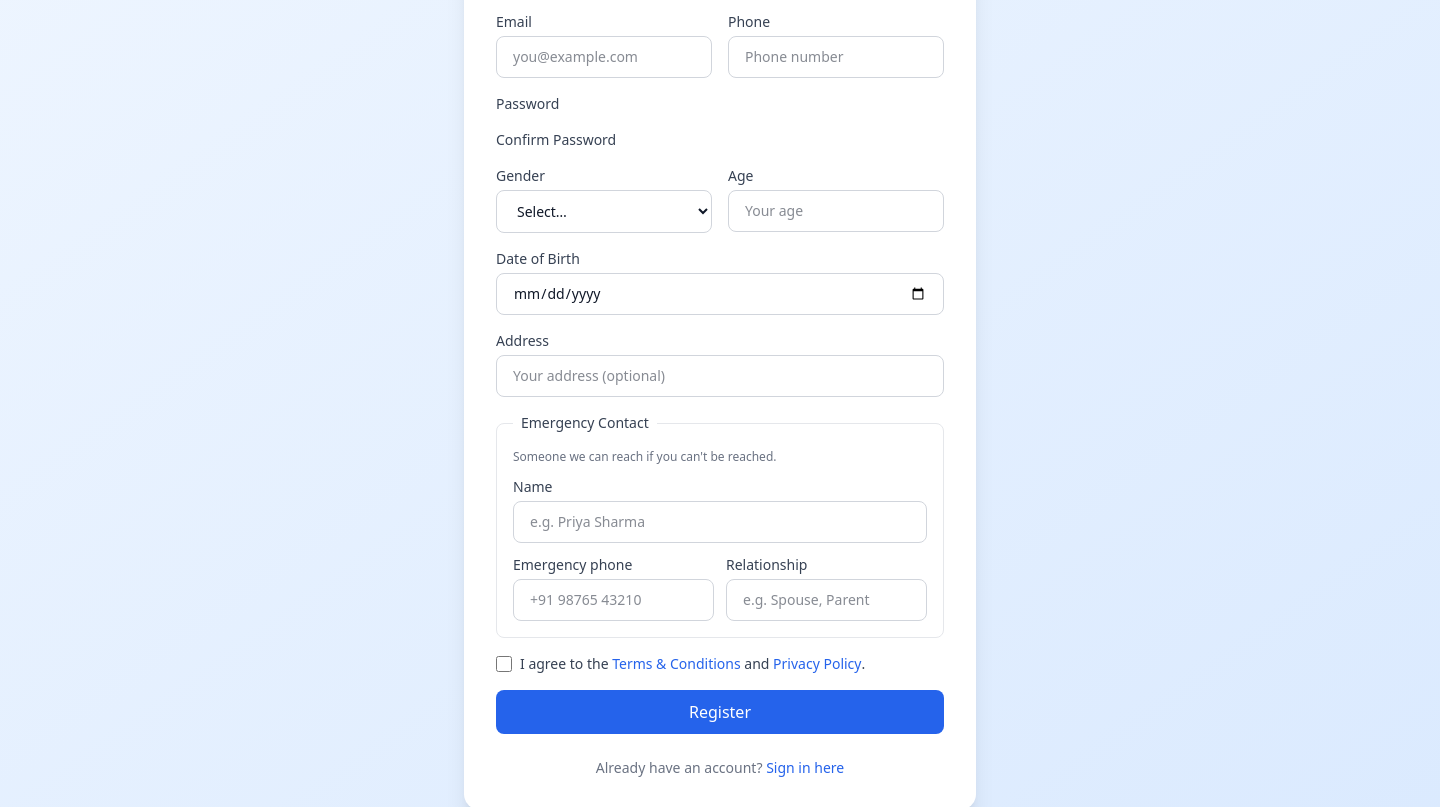
RegisterPage — noValidate + inline field errors (Issue #102 / #130) › clears a field's inline error as soon as the user edits the input
The width and height of the screenshot is (1440, 807).
(page scrolled)
Note: Trigger the empty-form errors first.
Click the button "Register": point(720, 712) [496,690,944,734]
(page scrolled)
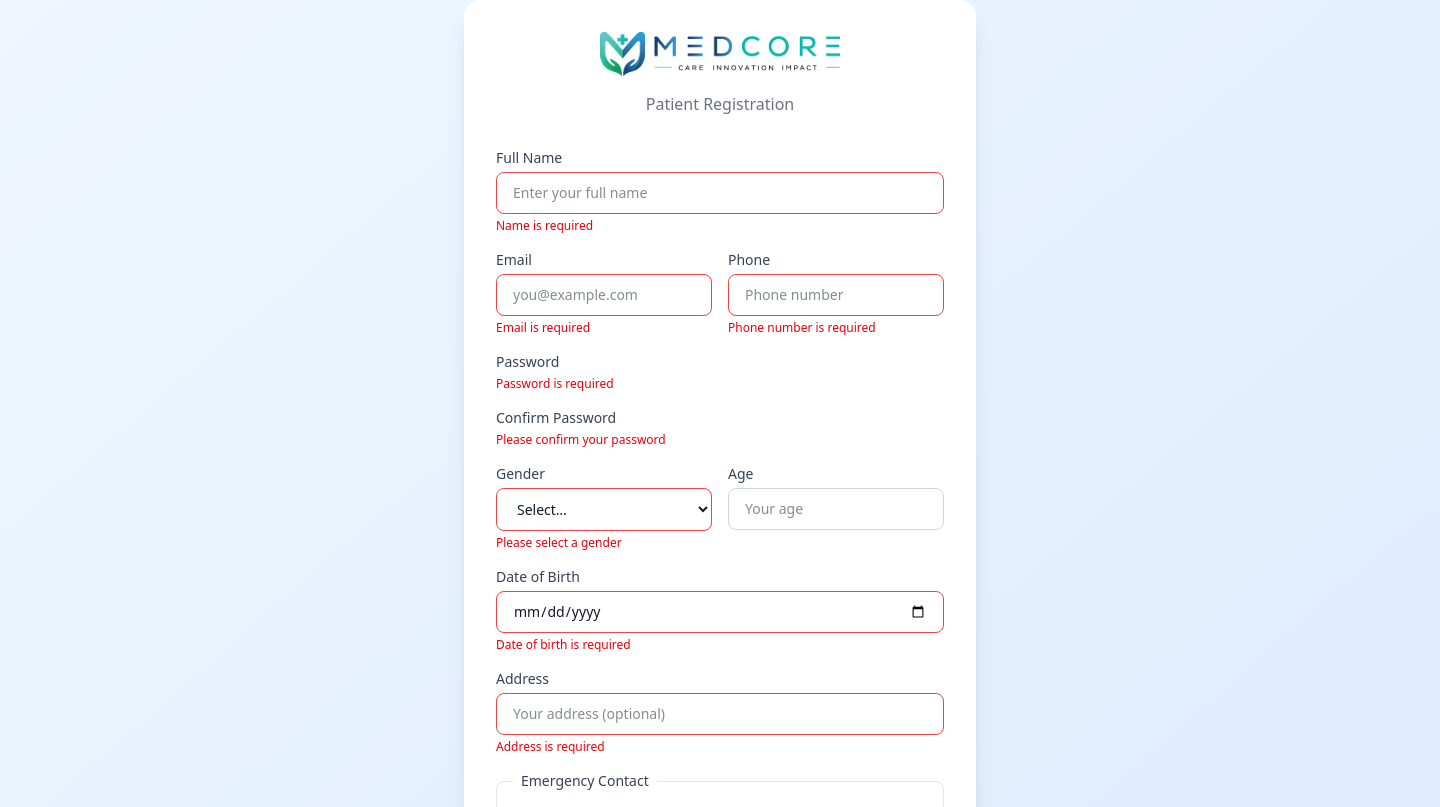
Now the text "Name is required" is shown, box [496,217,593,234]
In the field labelled "Full Name": point(720, 193) [496,172,944,214], type "A"
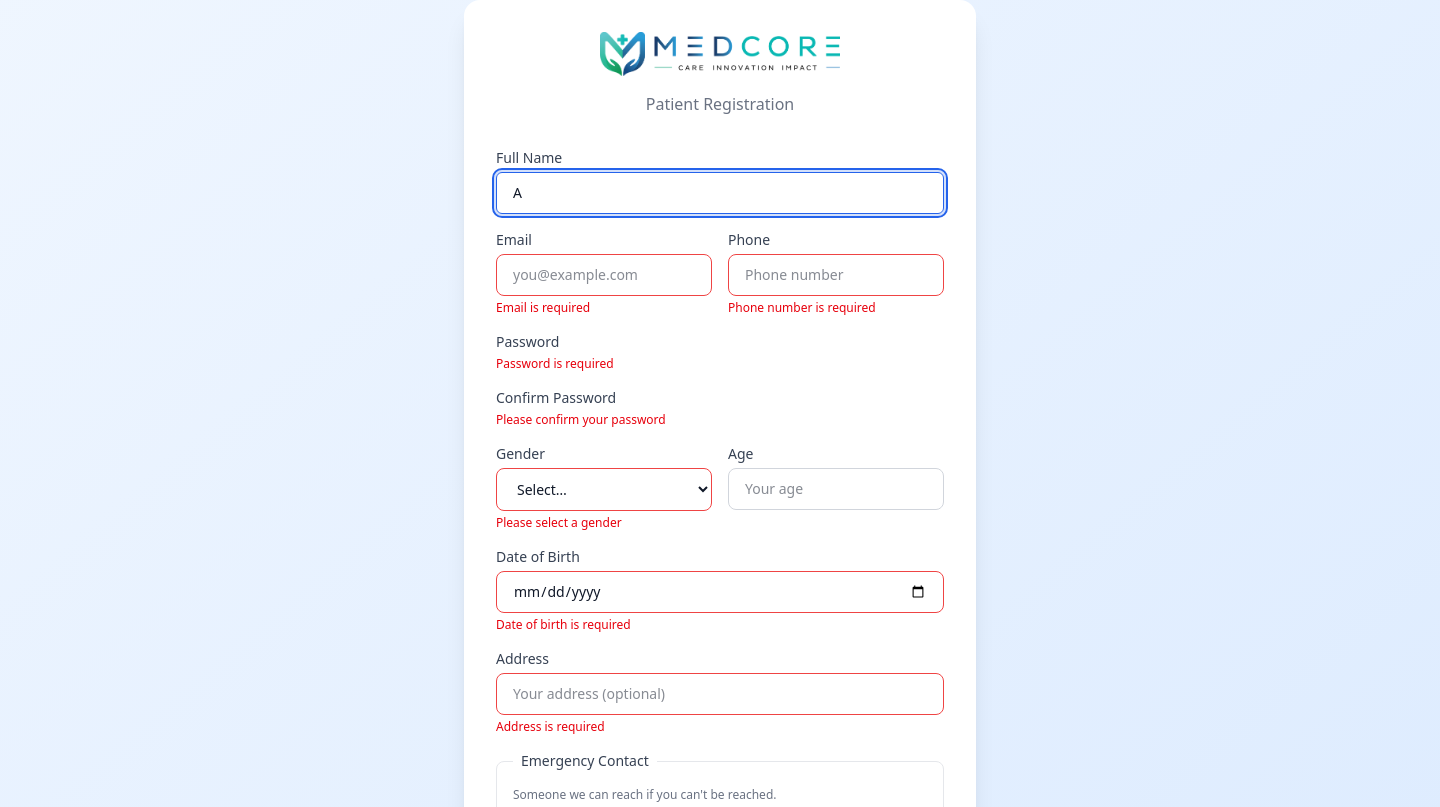
Now the text "Email is required" is shown, box [496,299,590,316]
Now the text with test id "error-name" is gone
